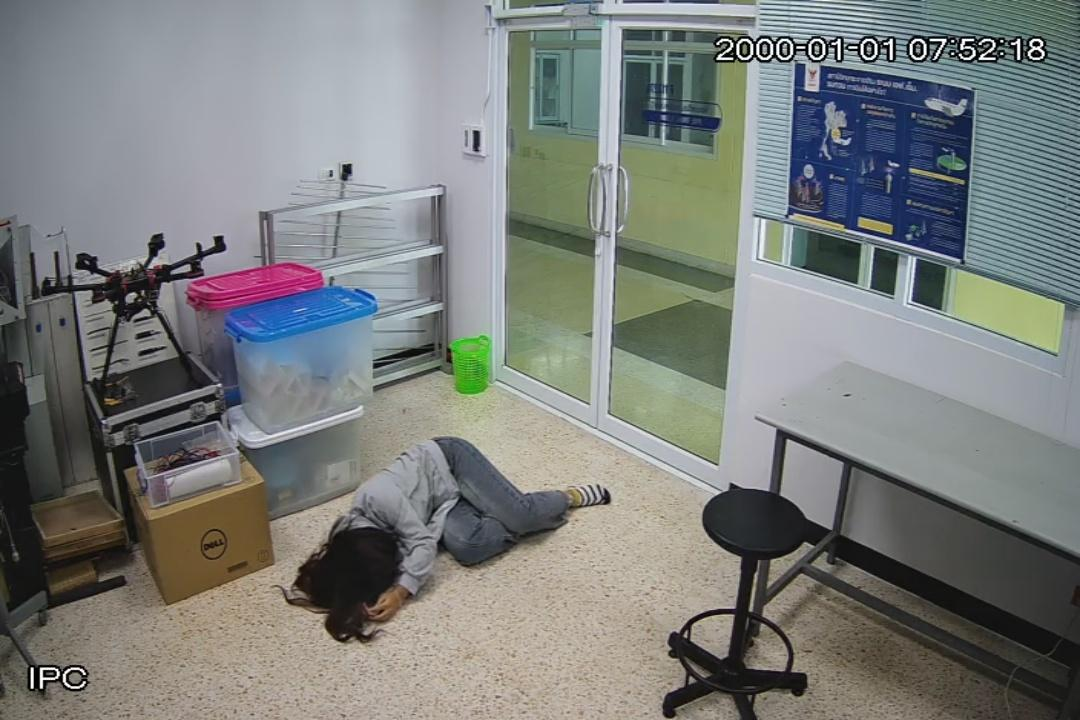fall: (300, 435, 611, 624)
